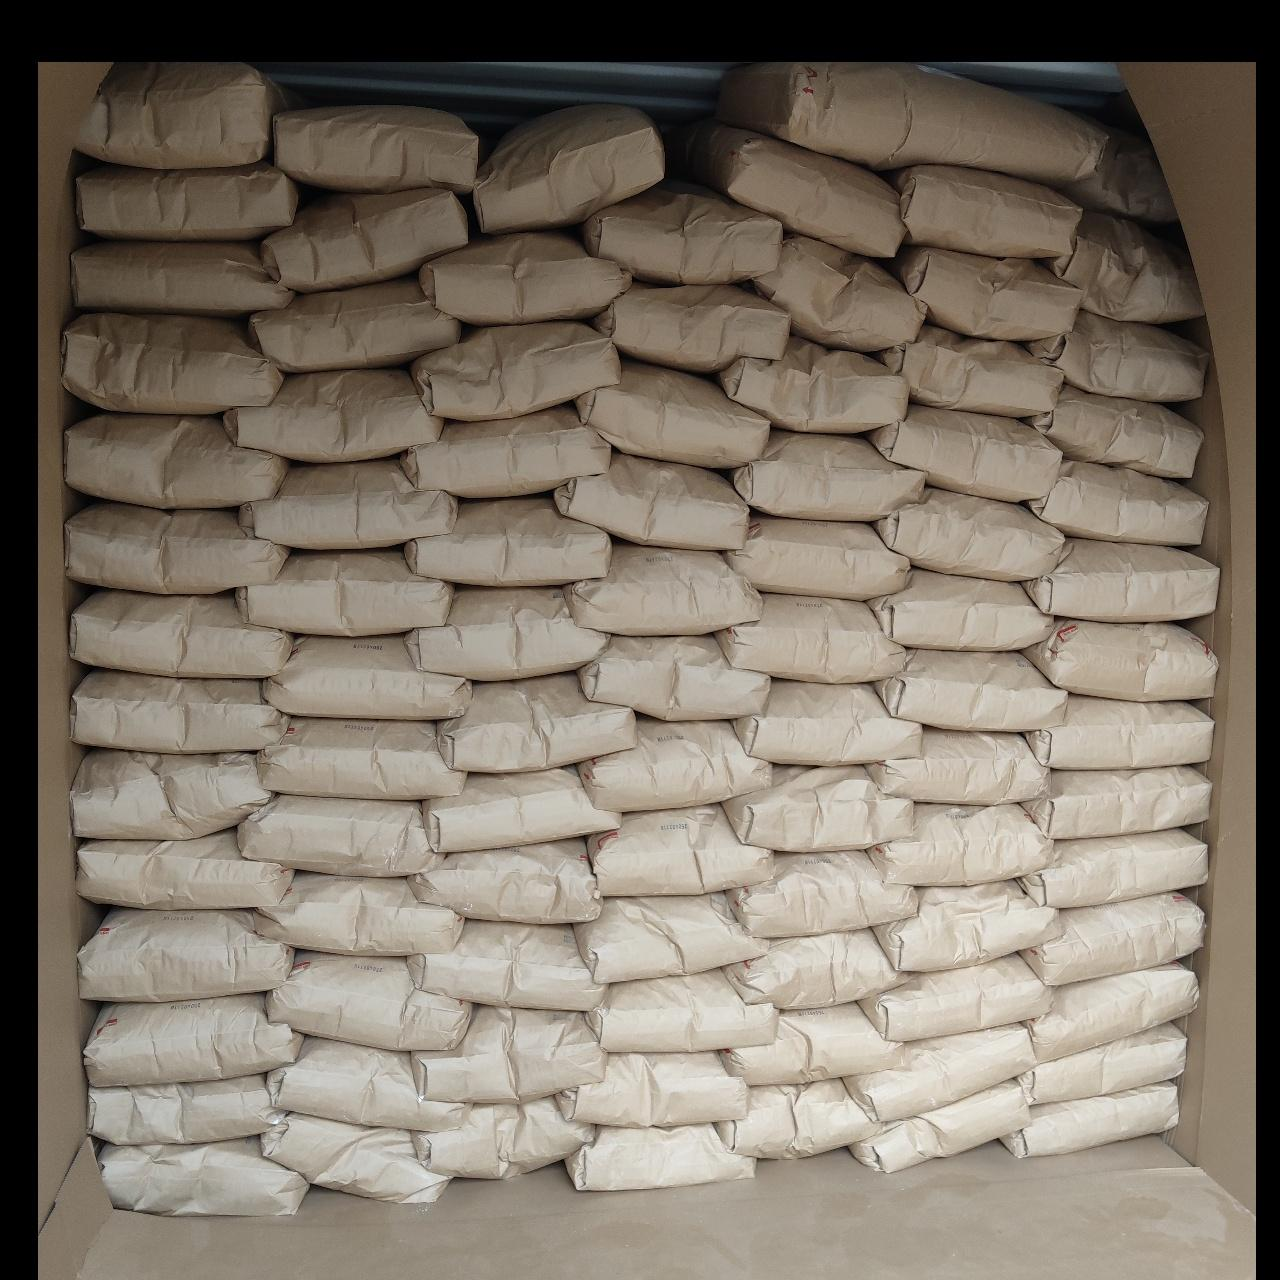sack: (716, 62, 1107, 183), (680, 120, 903, 254), (470, 104, 662, 230), (79, 62, 290, 168), (64, 314, 278, 414), (263, 190, 467, 290), (583, 182, 782, 282), (578, 360, 765, 467), (66, 414, 286, 504), (750, 236, 922, 350), (86, 994, 302, 1084), (66, 502, 286, 590), (411, 322, 618, 416), (250, 278, 458, 370), (438, 674, 634, 772), (70, 590, 292, 676), (226, 370, 442, 459), (240, 459, 454, 549), (268, 952, 470, 1046), (420, 234, 629, 324), (80, 910, 292, 998), (556, 454, 748, 549), (414, 1006, 604, 1102), (402, 406, 610, 493), (870, 406, 1060, 501), (888, 246, 1078, 340), (406, 496, 610, 583), (408, 588, 606, 678), (238, 550, 452, 632), (719, 336, 906, 430), (72, 750, 270, 838), (268, 1039, 467, 1126), (846, 1026, 1034, 1118), (275, 105, 481, 190), (1044, 212, 1201, 322), (592, 284, 788, 372), (580, 719, 768, 810), (884, 166, 1078, 254), (72, 670, 286, 750), (256, 874, 462, 956), (566, 542, 758, 629), (876, 488, 1062, 578), (79, 830, 292, 908), (266, 636, 470, 719), (1024, 964, 1198, 1060), (878, 324, 1062, 414), (576, 894, 764, 982), (74, 241, 292, 316), (731, 433, 922, 518), (424, 768, 618, 852), (1022, 892, 1201, 982), (79, 164, 298, 238), (860, 954, 1051, 1039), (850, 1082, 1028, 1172), (590, 806, 772, 894), (260, 719, 462, 798), (410, 922, 602, 1006), (876, 881, 1060, 968), (1026, 309, 1204, 399), (410, 840, 602, 922), (724, 765, 910, 850), (1030, 384, 1200, 476), (734, 680, 918, 764), (263, 1114, 445, 1198), (1024, 540, 1218, 620), (728, 852, 915, 934), (240, 796, 436, 874), (719, 594, 903, 678), (102, 1141, 306, 1216), (580, 636, 765, 719), (1024, 620, 1214, 700), (876, 651, 1064, 730), (1028, 459, 1206, 544), (726, 516, 908, 598), (588, 971, 776, 1050), (872, 804, 1051, 886), (722, 1005, 903, 1084), (870, 570, 1050, 648), (1022, 830, 1206, 906), (1022, 765, 1210, 838), (558, 1054, 745, 1126), (726, 930, 903, 1006), (870, 728, 1046, 804), (414, 1099, 592, 1175), (1017, 1024, 1184, 1102), (1026, 696, 1210, 765), (1002, 1082, 1175, 1156), (90, 1076, 282, 1142), (719, 1080, 880, 1156), (1058, 128, 1177, 229), (568, 1126, 753, 1190)
